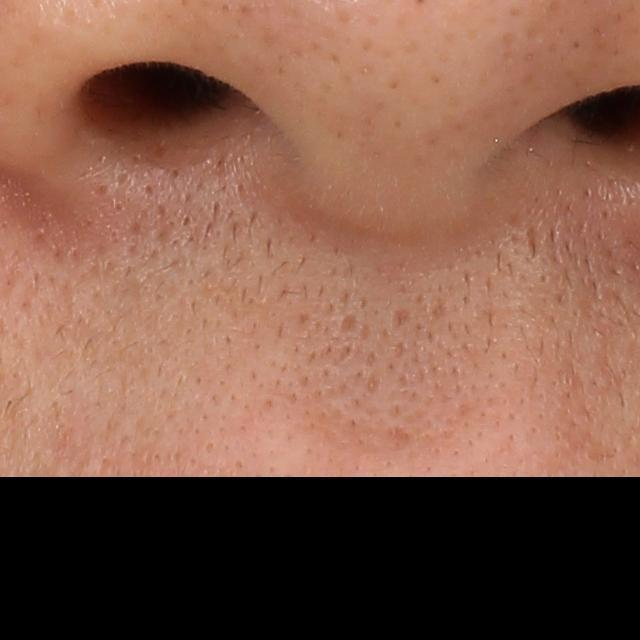atrophic_scar: (389, 302, 418, 334), (337, 312, 364, 338), (361, 372, 382, 395)
